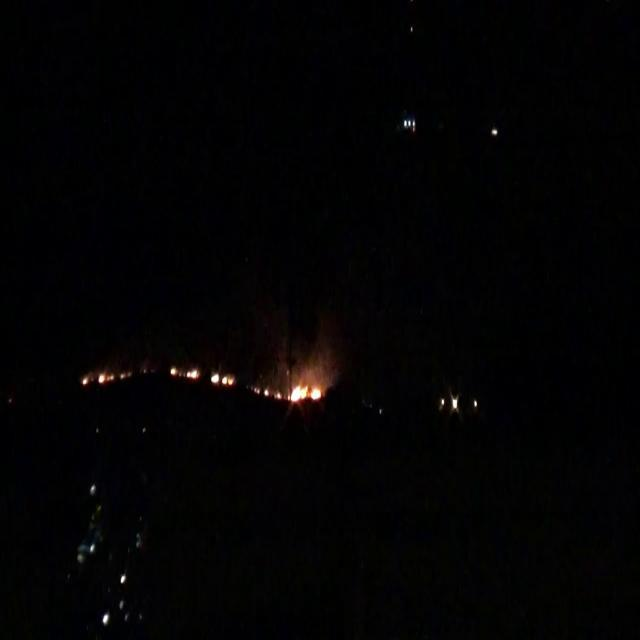Fire: (256, 380, 322, 404), (208, 368, 234, 389), (80, 369, 114, 385), (171, 362, 200, 380)
